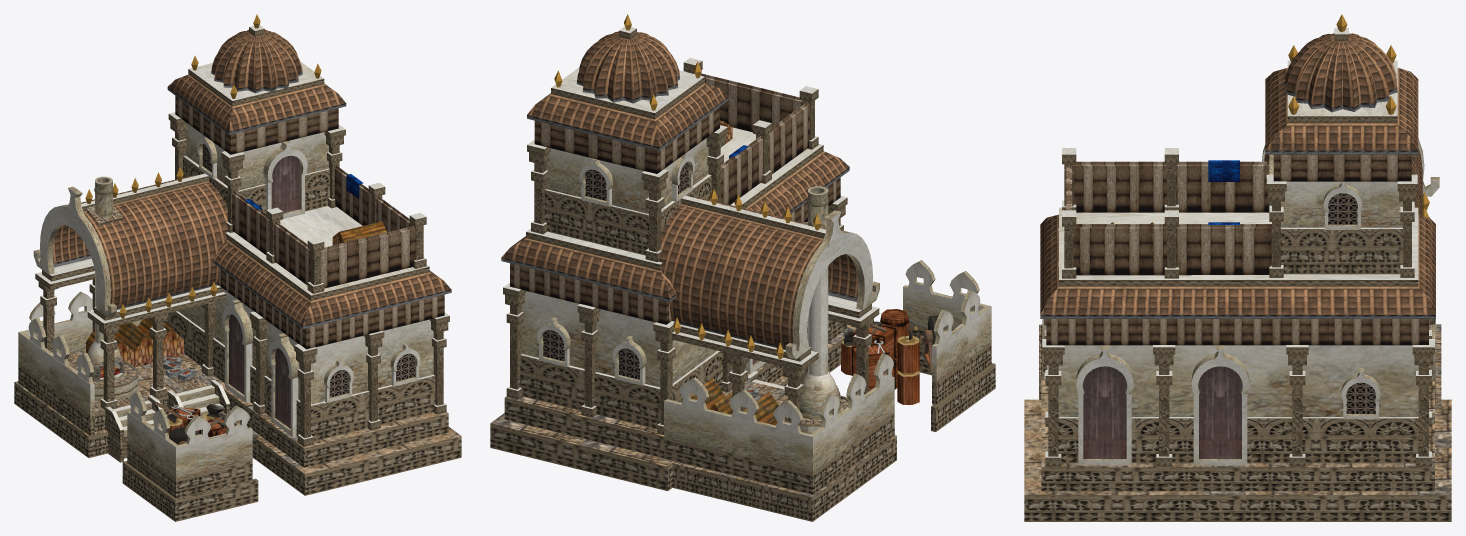
The model's file is forge.dae.
3 views of the same model, side by side, from view 1: azimuth 30°, elevation 25°; view 2: azimuth 150°, elevation 25°; view 3: azimuth 270°, elevation 25° (orthographic). The views are drawn at different scales.
Parts seen in each view (by area): view 1: forge; view 2: forge; view 3: forge.
Boxes of the visible parts, bbox=[...] form: forge: bbox=[14, 14, 461, 521]; forge: bbox=[490, 14, 995, 521]; forge: bbox=[1024, 14, 1451, 521].
Size of the model in its own units: 18.37 by 19.43 by 23.15.
